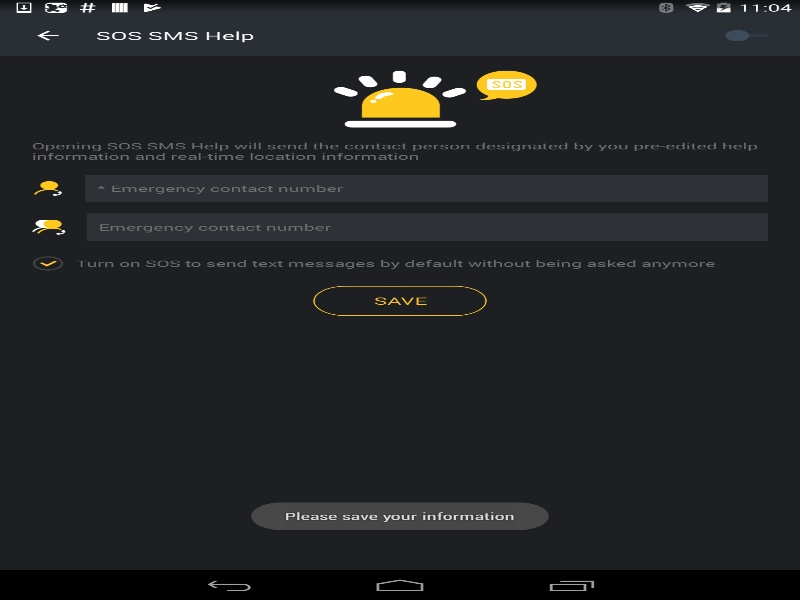Button: (313, 285, 486, 315)
Input: (85, 174, 768, 202), (86, 213, 768, 240)
